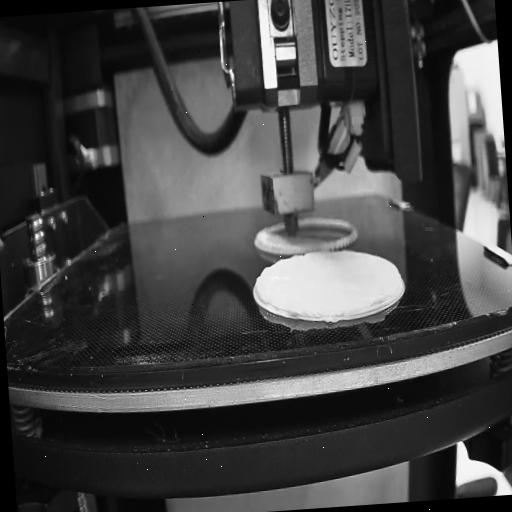over_extrusion: (252, 262, 278, 304)
